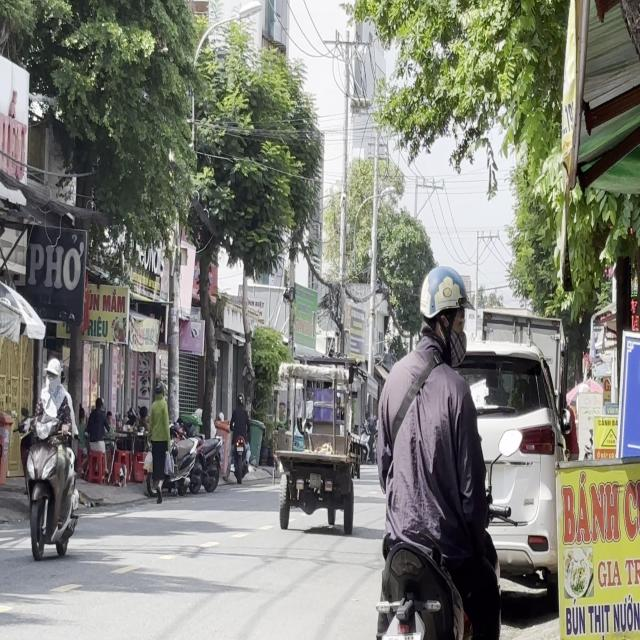helmet: (44, 356, 61, 386)
licenseplate: (367, 258, 509, 634), (19, 354, 81, 560)
